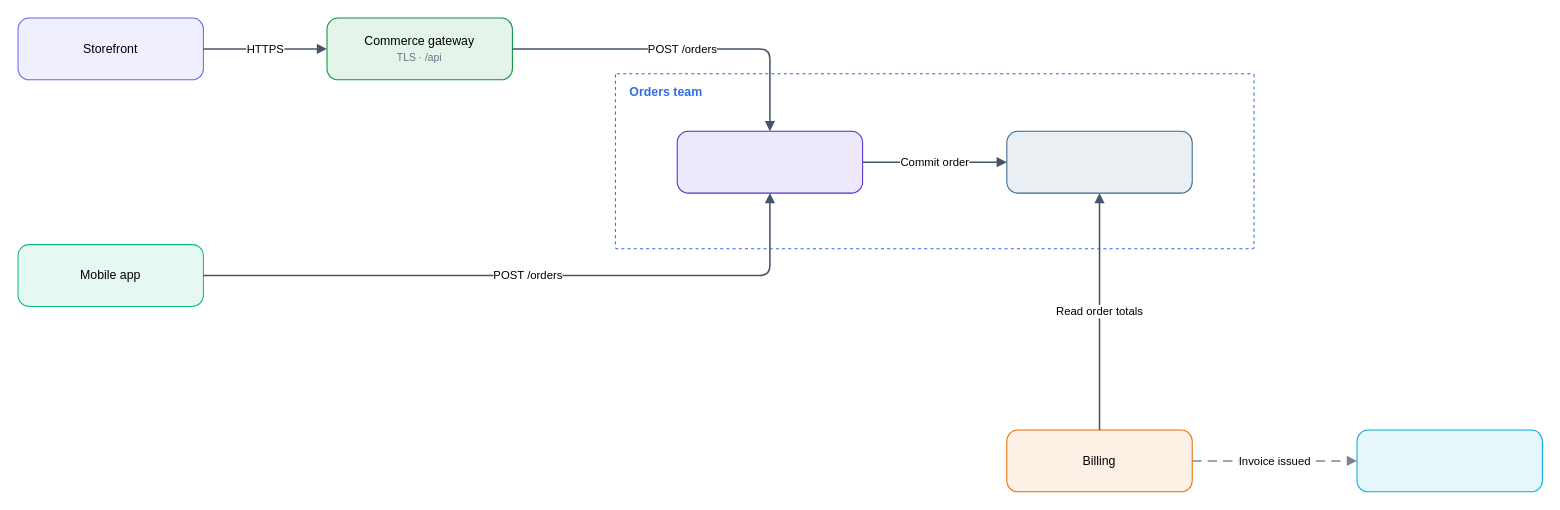
This 1560x510 diagram has some shape labels left out. Here are the shapes that lost their labels. From the top down, the centre of each, then its label:
At [769,161]: "Order service".
At [1099,161]: "orders-db".
At [1449,460]: "Ledger".
